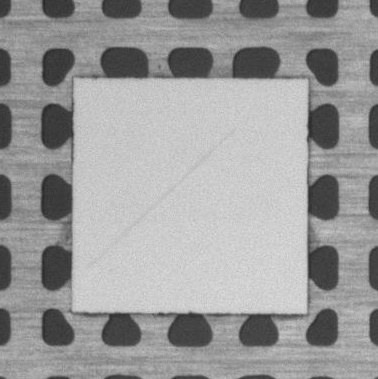DIE_CRACK: (88, 129, 234, 269)
